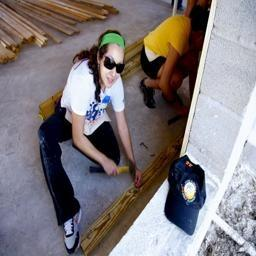no hat: (88, 20, 130, 91), (190, 5, 214, 57)
no vest: (64, 60, 130, 160), (135, 17, 195, 98)
